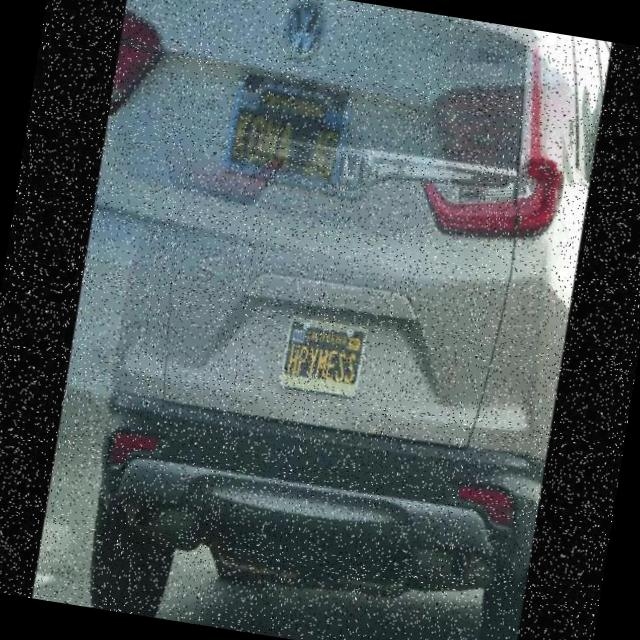LicensePlate: (278, 313, 372, 399)
